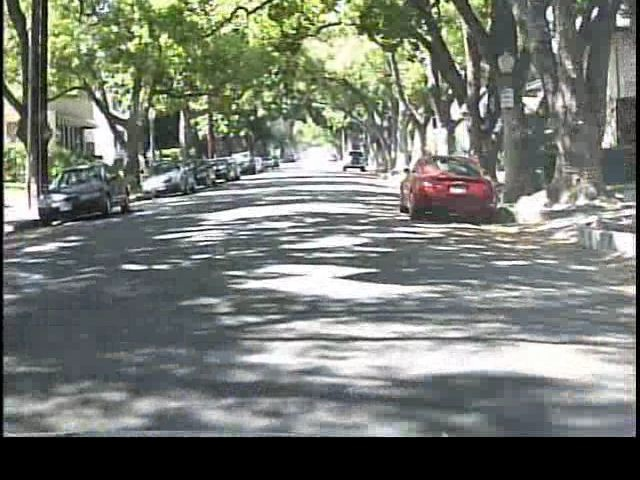person: (134, 147, 155, 189)
